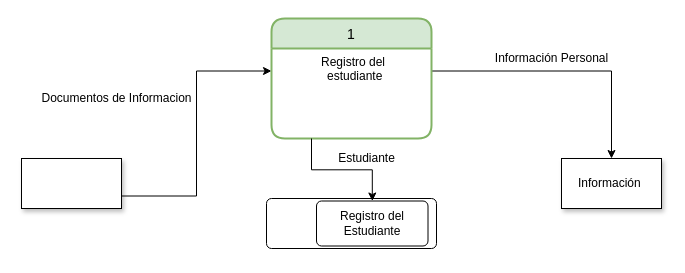
The diagram is 685 pixels wide and 273 high, and some of its shapes have lost their labels. Each missing label, with the centre of its shape:
D1: pixel 287 225
Verificar información del estudiante: pixel 72 185
